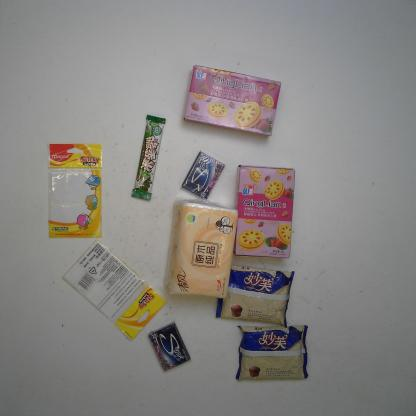Chocolate: (129, 112, 167, 202)
Dessert: (182, 65, 282, 137), (232, 164, 296, 260), (212, 262, 294, 328), (234, 323, 310, 383)
Gum: (148, 321, 192, 373), (179, 150, 225, 199)
Stationery: (63, 239, 166, 341), (44, 141, 104, 238)
Tissue: (162, 200, 238, 300)
